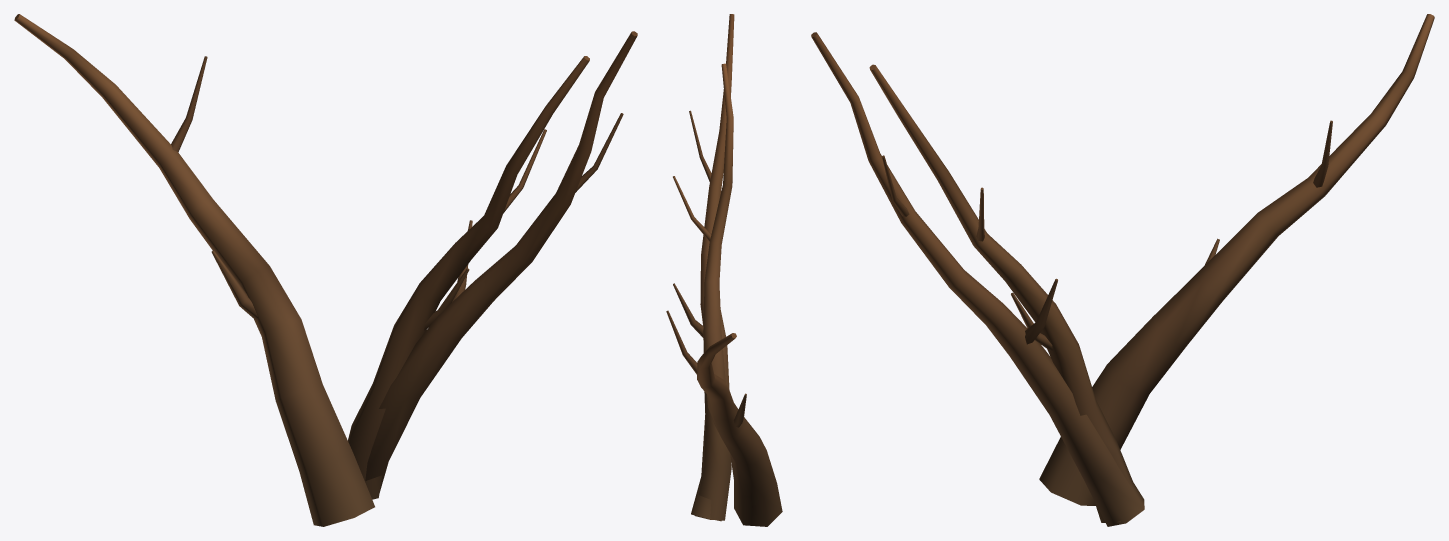
3 renders of one model, left to right at view 1: azimuth 30°, elevation 25°; view 2: azimuth 150°, elevation 25°; view 3: azimuth 270°, elevation 25°, orthographic. The views are drawn at different scales.
Visible parts, largest first — view 1: Root; view 2: Root; view 3: Root.
Boxes of the visible parts, <box> form: Root: <box>14,14,637,526</box>; Root: <box>666,14,782,526</box>; Root: <box>811,14,1434,526</box>.
Bounding box in the file's own units: 0.2519 × 0.3925 × 0.4035.
